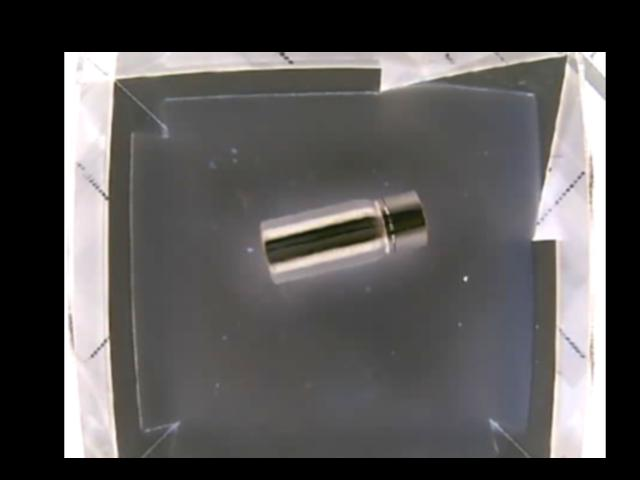Bottle: (260, 189, 428, 283)
